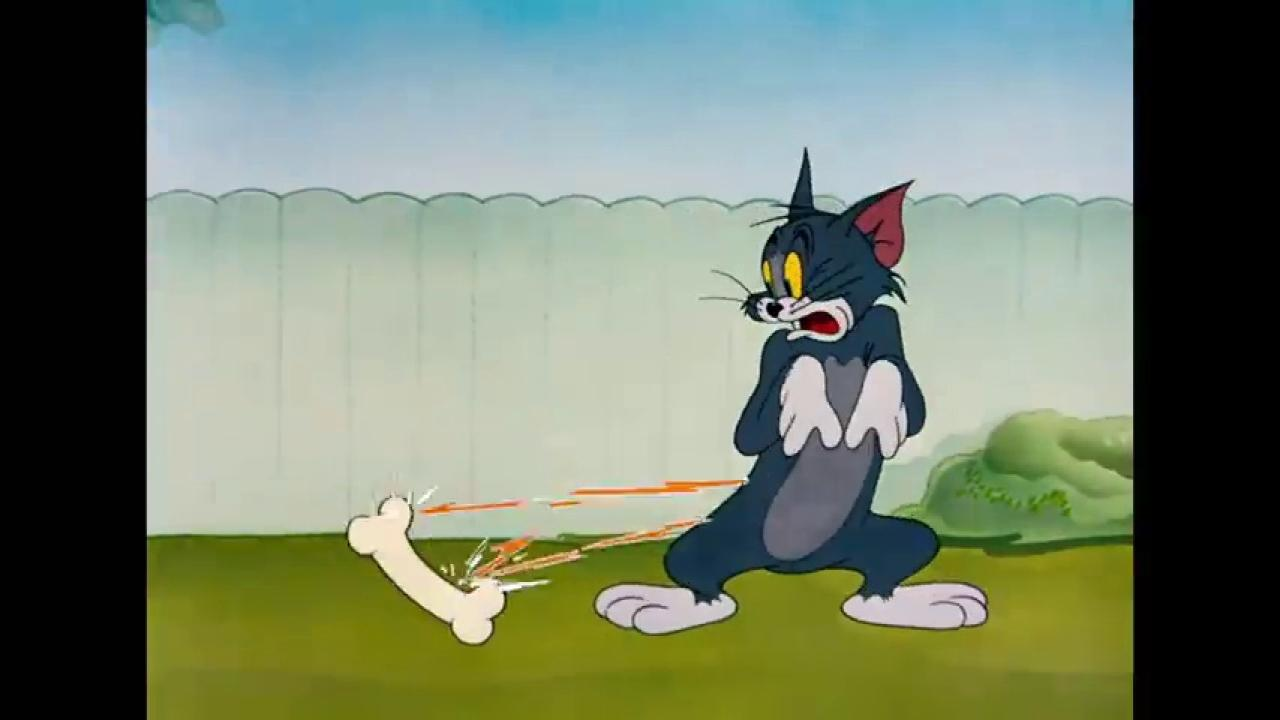Tom: (591, 144, 990, 633)
